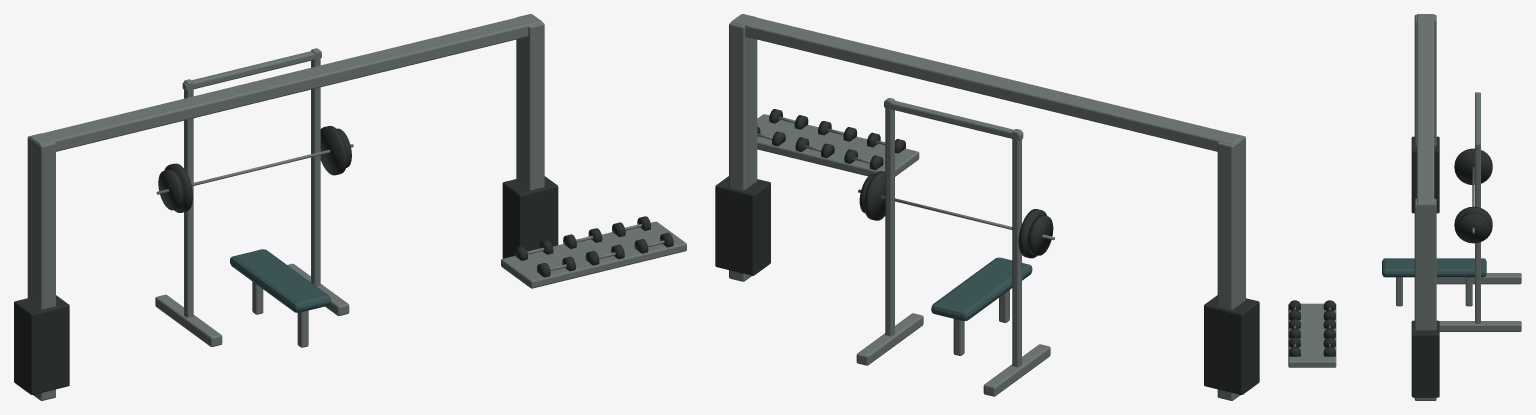
File: gym-v1.glb
The picture shows the model from 3 angles, left to right: view 1: azimuth 30°, elevation 25°; view 2: azimuth 150°, elevation 25°; view 3: azimuth 270°, elevation 25°; orthographic projection. The views are drawn at different scales.
Parts seen in each view (by area): view 1: CableTop, CableTower, WeightStack, DumbbellShelf, CableTower.001, WeightStack.001, BenchPad, RackUpright.001, RackUpright, RackTop, RackFoot, WeightPlate.002 (+2 smaller); view 2: CableTop, CableTower, WeightStack, WeightStack.001, CableTower.001, DumbbellShelf, BenchPad, RackUpright.001, RackUpright, RackTop, RackFoot.001, RackFoot (+4 smaller); view 3: CableTop, CableTower.001, DumbbellShelf, WeightStack.001, BenchPad, WeightPlate, RackFoot.001, RackUpright.001, WeightStack, CableTower, WeightPlate.003, RackFoot (+3 smaller).
Part boxes in pixels (bbox=[...]): CableTop: bbox=[29, 14, 542, 151]; CableTower: bbox=[27, 133, 55, 400]; WeightStack: bbox=[14, 295, 69, 394]; DumbbellShelf: bbox=[501, 221, 686, 288]; CableTower.001: bbox=[516, 14, 544, 190]; WeightStack.001: bbox=[502, 176, 558, 258]; BenchPad: bbox=[230, 249, 330, 312]; RackUpright.001: bbox=[311, 48, 320, 286]; RackUpright: bbox=[184, 79, 193, 317]; RackTop: bbox=[182, 50, 321, 90]; RackFoot: bbox=[155, 294, 222, 346]; WeightPlate.002: bbox=[320, 126, 347, 175]; CableTop: bbox=[731, 14, 1243, 151]; CableTower: bbox=[1217, 133, 1245, 400]; WeightStack: bbox=[1204, 295, 1259, 394]; WeightStack.001: bbox=[715, 176, 770, 275]; CableTower.001: bbox=[729, 14, 757, 281]; DumbbellShelf: bbox=[757, 114, 919, 176]; BenchPad: bbox=[931, 257, 1032, 320]; RackUpright.001: bbox=[885, 98, 894, 336]; RackUpright: bbox=[1012, 129, 1021, 367]; RackTop: bbox=[884, 100, 1023, 140]; RackFoot.001: bbox=[856, 313, 923, 365]; RackFoot: bbox=[983, 344, 1050, 396]; CableTop: bbox=[1417, 14, 1434, 204]; CableTower.001: bbox=[1414, 198, 1436, 400]; DumbbellShelf: bbox=[1288, 303, 1336, 367]; WeightStack.001: bbox=[1411, 320, 1439, 397]; BenchPad: bbox=[1382, 258, 1486, 277]; WeightPlate: bbox=[1454, 148, 1492, 184]; RackFoot.001: bbox=[1439, 321, 1521, 331]; RackUpright.001: bbox=[1475, 140, 1480, 323]; WeightStack: bbox=[1411, 136, 1439, 213]; CableTower: bbox=[1414, 14, 1436, 146]; WeightPlate.003: bbox=[1458, 212, 1489, 242]; RackFoot: bbox=[1436, 273, 1521, 284].
Size of what is drawn, in the model's own units: 5.9 by 2.51 by 2.68.
